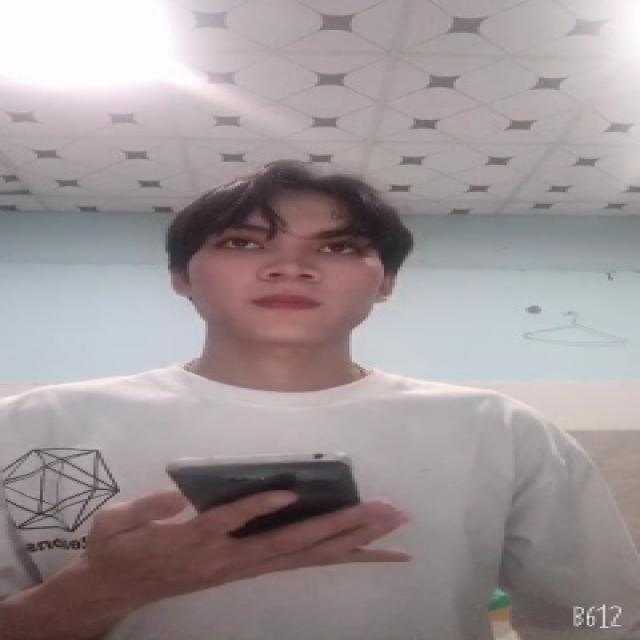Phone: (164, 451, 357, 533)
